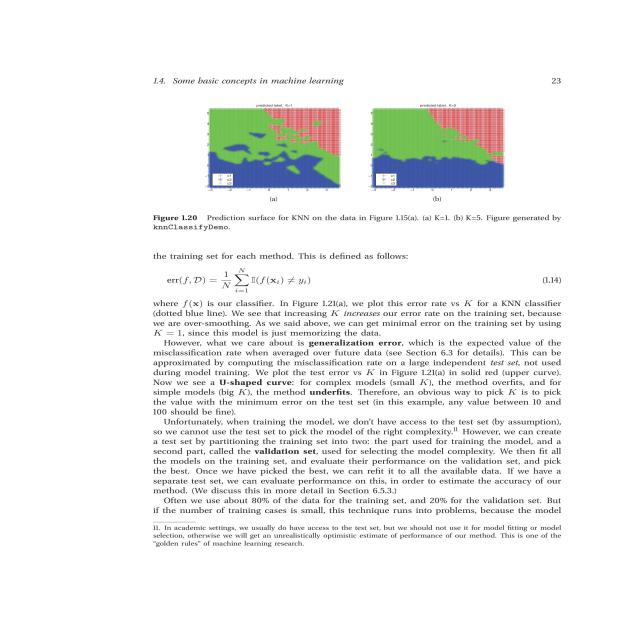diagram: (128, 94, 596, 239)
